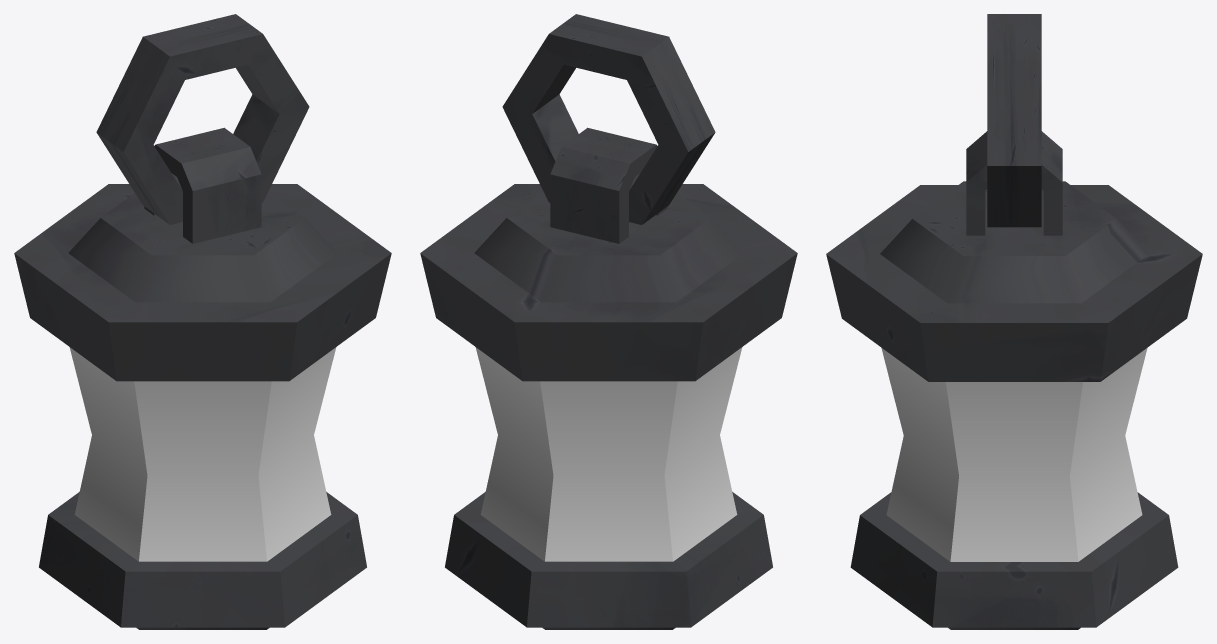
Rendered from SM_PROP_lantern_02.fbx.
The picture shows the model from 3 angles, left to right: view 1: azimuth 30°, elevation 25°; view 2: azimuth 150°, elevation 25°; view 3: azimuth 270°, elevation 25°; orthographic projection.
Parts seen in each view (by area): view 1: SM_PROP_lantern_02; view 2: SM_PROP_lantern_02; view 3: SM_PROP_lantern_02.
Part boxes in pixels (left/top/right/bottom): SM_PROP_lantern_02: left=14, top=14, right=391, bottom=629; SM_PROP_lantern_02: left=420, top=14, right=797, bottom=629; SM_PROP_lantern_02: left=826, top=14, right=1202, bottom=629.
Size of the model in its own units: 50.77 by 93.9 by 58.63.
